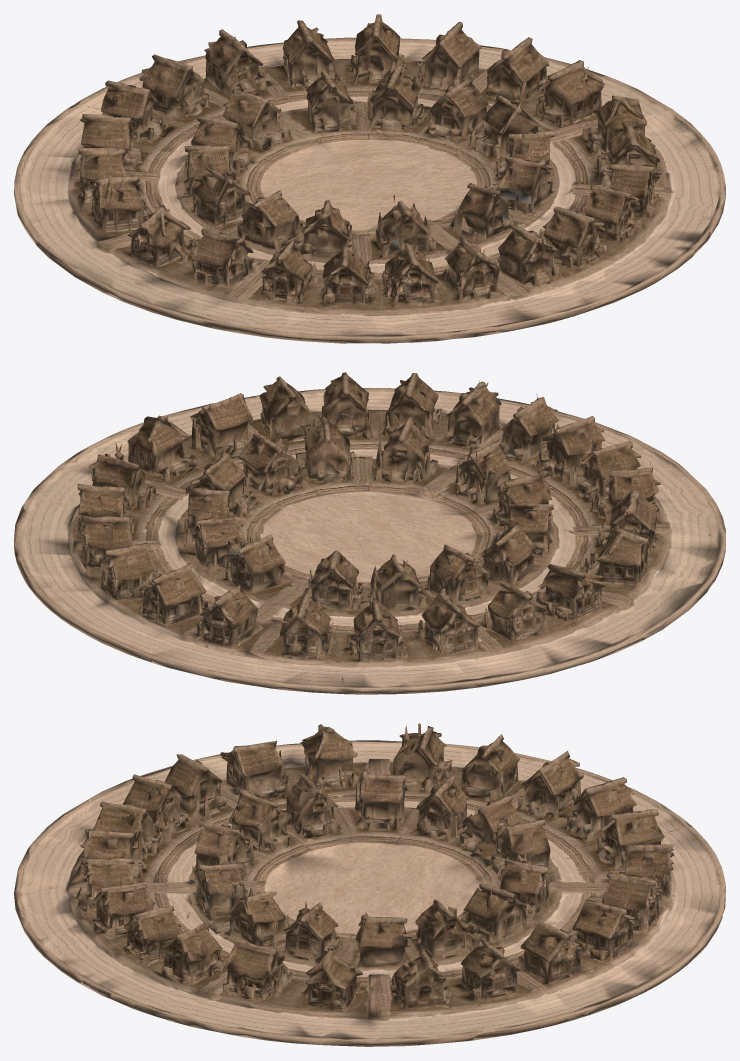
File: village_large.glb
The picture shows the model from 3 angles, top to bottom: view 1: azimuth 30°, elevation 25°; view 2: azimuth 150°, elevation 25°; view 3: azimuth 270°, elevation 25°; orthographic projection.
Size of the model in its own units: 1.9 by 0.1715 by 1.9.
1 material, 1 textured.
